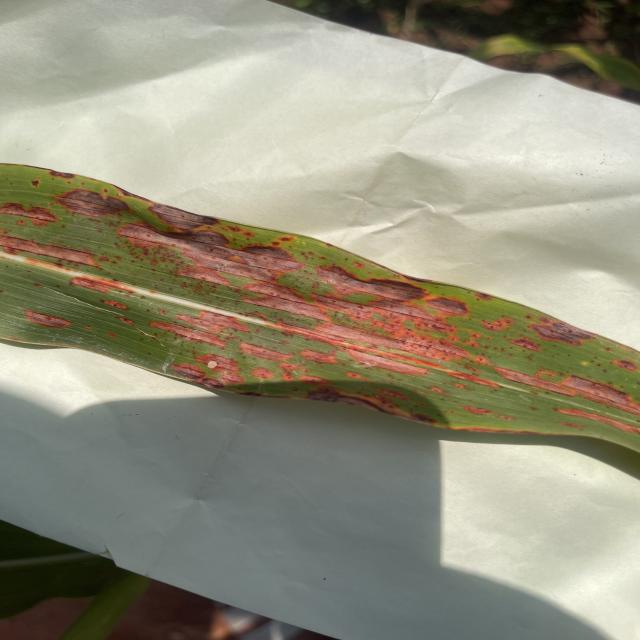millet_rust: (1, 164, 640, 450)
